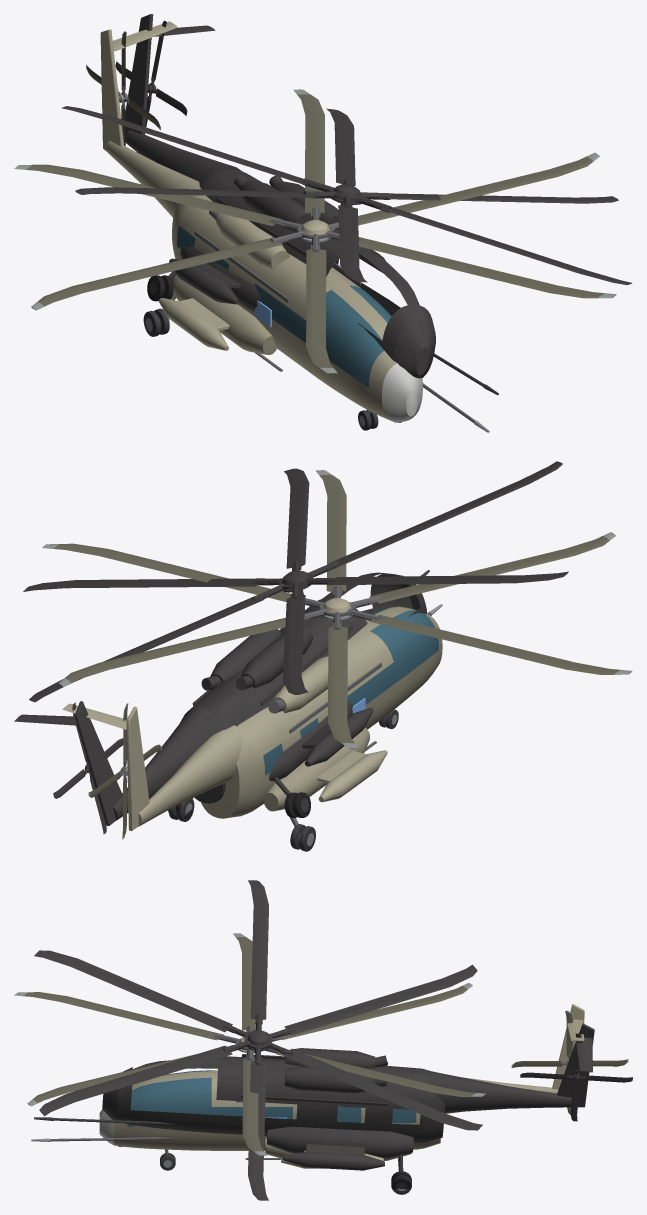
Rendered from heavyLift__ch_53_yasur_2025.glb.
3 renders of one model, top to bottom at view 1: azimuth 30°, elevation 25°; view 2: azimuth 150°, elevation 25°; view 3: azimuth 270°, elevation 25°, orthographic. The views are drawn at different scales.
Parts seen in each view (by area): view 1: Wreck, Fuselage_Mesh, Rotor_Main_Mesh, Engines_Mesh, Landing_Gear_Mesh, Rotor_Tail_Mesh; view 2: Wreck, Fuselage_Mesh, Rotor_Main_Mesh, Engines_Mesh, Landing_Gear_Mesh, Rotor_Tail_Mesh; view 3: Wreck, Fuselage_Mesh, Rotor_Main_Mesh, Rotor_Tail_Mesh.
Boxes of the visible parts, x1=… form: Wreck: x1=61, y1=14, x2=632, y2=395; Fuselage_Mesh: x1=100, y1=21, x2=489, y2=432; Rotor_Main_Mesh: x1=14, y1=89, x2=616, y2=373; Engines_Mesh: x1=209, y1=211, x2=290, y2=269; Landing_Gear_Mesh: x1=143, y1=292, x2=378, y2=430; Rotor_Tail_Mesh: x1=86, y1=31, x2=160, y2=146; Wreck: x1=14, y1=461, x2=568, y2=834; Fuselage_Mesh: x1=62, y1=604, x2=442, y2=830; Rotor_Main_Mesh: x1=42, y1=470, x2=632, y2=748; Engines_Mesh: x1=268, y1=656, x2=328, y2=713; Landing_Gear_Mesh: x1=168, y1=709, x2=398, y2=851; Rotor_Tail_Mesh: x1=88, y1=703, x2=161, y2=839; Wreck: x1=34, y1=880, x2=632, y2=1200; Fuselage_Mesh: x1=31, y1=1004, x2=584, y2=1168; Rotor_Main_Mesh: x1=14, y1=933, x2=485, y2=1155; Rotor_Tail_Mesh: x1=511, y1=1010, x2=628, y2=1115.
Size of what is drawn, in the model's own units: 22.7 by 9.19 by 25.93.
